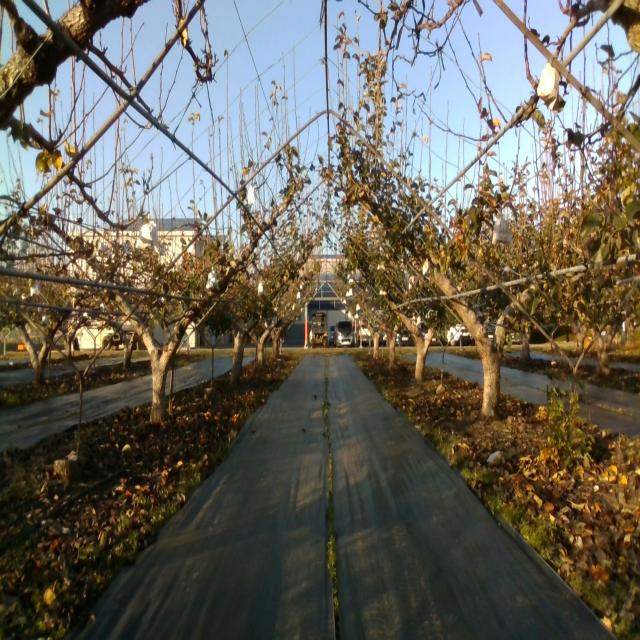pearbags: (536, 62, 560, 116), (135, 213, 160, 254), (492, 215, 514, 246), (206, 266, 219, 291)
